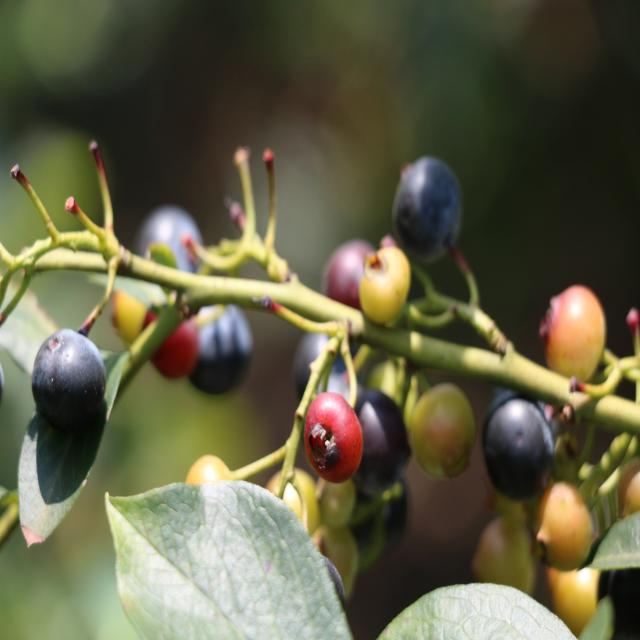blueberry: (388, 156, 468, 272), (474, 398, 558, 497), (32, 328, 112, 428), (183, 301, 257, 403), (344, 391, 410, 497), (136, 206, 214, 286), (325, 227, 389, 311), (294, 328, 349, 411)
blueberry-halfripe: (298, 392, 365, 492), (142, 304, 198, 380)
blueberry-unripe: (412, 375, 476, 481), (550, 283, 605, 389), (537, 480, 599, 572), (362, 248, 412, 325)
